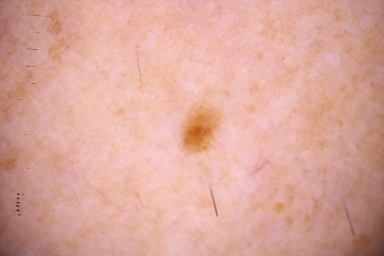nevus: (176, 102, 222, 155)
